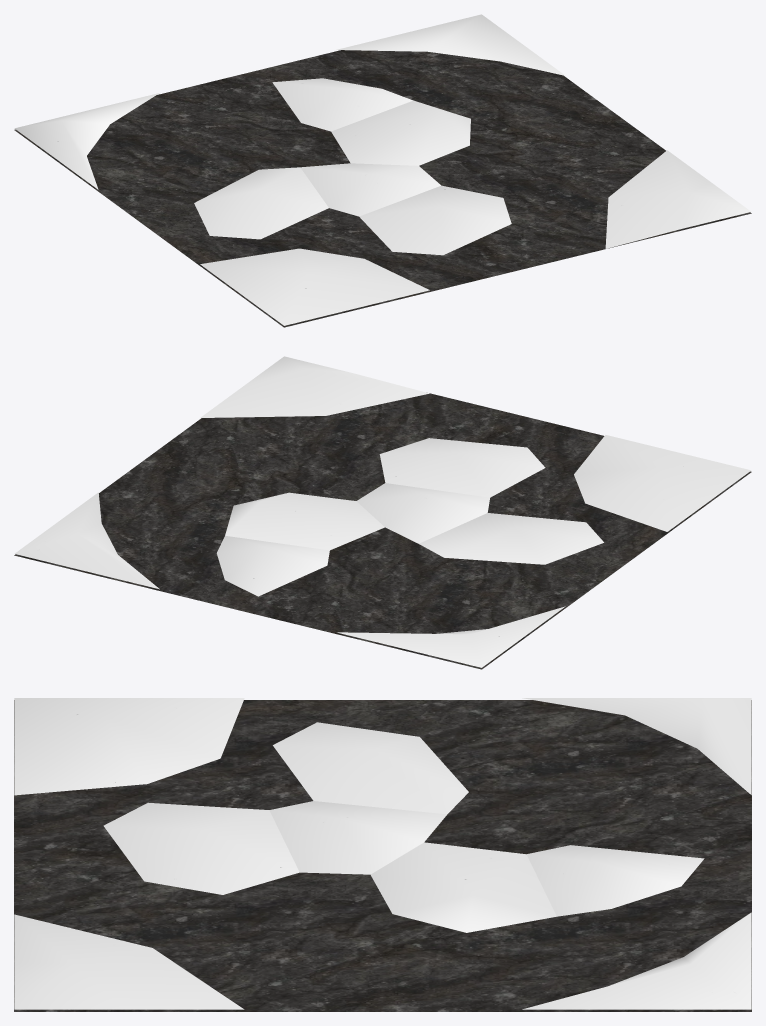
The model's file is pm-garden-08.glb.
3 views of the same model, one above another, from view 1: azimuth 30°, elevation 25°; view 2: azimuth 150°, elevation 25°; view 3: azimuth 270°, elevation 25° (orthographic). The views are drawn at different scales.
Parts seen in each view (by area): view 1: Garden_08_Art; view 2: Garden_08_Art; view 3: Garden_08_Art.
Boxes of the visible parts, x1,y1,x2,y2 form: Garden_08_Art: [14, 14, 751, 327]; Garden_08_Art: [14, 356, 751, 669]; Garden_08_Art: [14, 698, 751, 1011].
Size of the model in its own units: 15.98 by 0.5015 by 15.98.
Materials: 2 (2 with a texture image).
